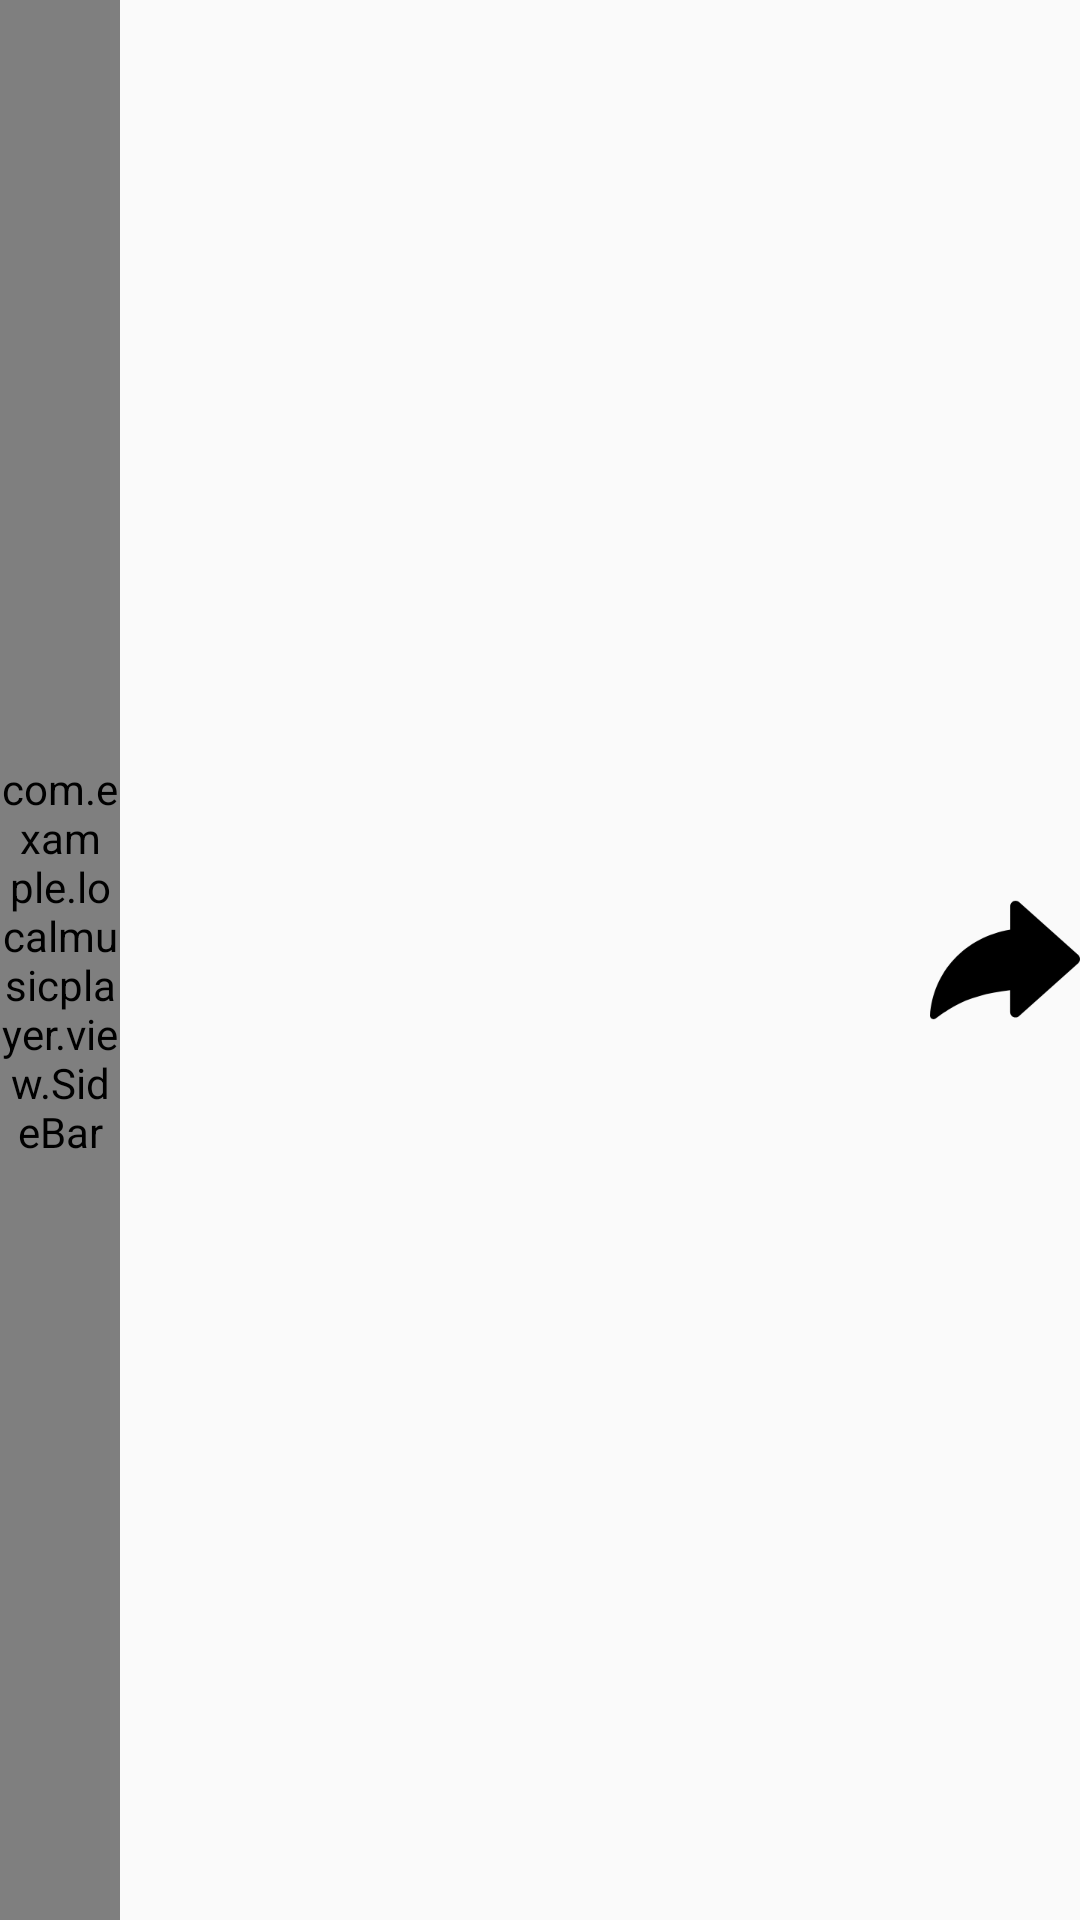

Icon click points for this 1080×1920 phone screenshot, format [x,y]:
right: [1005,960]
